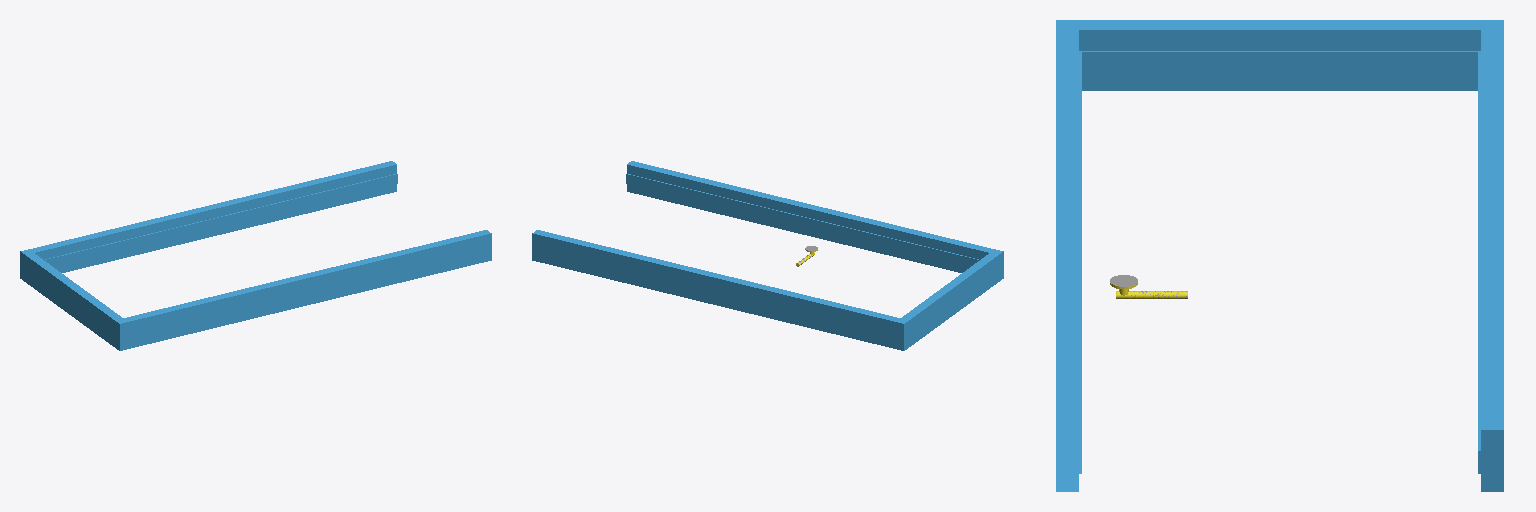
robot.urdf — right-pull-door:
<?xml version="1.0" ?>
<robot name="right-pull-door">
	<link name="base"/>
	<link name="link_0">
		<visual name="out-frame">
			<origin xyz="0 0 0"/>
			<geometry>
				<mesh filename="texture_dae/frame.dae" scale="1.0598661171004193 1.0598661171004193 1.0598661171004193"/>
			</geometry>
		</visual>
		<collision>
			<origin xyz="0 0 0"/>
			<geometry>
				<mesh filename="texture_dae/frame.dae" scale="1.0598661171004193 1.0598661171004193 1.0598661171004193"/>
			</geometry>
		</collision>
	</link>
	<joint name="joint_0" type="fixed">
		<origin rpy="1.570796326794897 0 -1.570796326794897" xyz="0 0 0"/>
		<child link="link_0"/>
		<parent link="base"/>
	</joint>
	<link name="link_1">
		<visual name="surf-board">
			<origin xyz="0.3602486203654256 -0.828960883888819 0"/>
			<geometry>
				<mesh filename="texture_dae/board.dae" scale="1.0598661171004193 1.0598661171004193 1.0598661171004193"/>
			</geometry>
		</visual>
		<collision>
			<origin xyz="0.3602486203654256 -0.828960883888819 0"/>
			<geometry>
				<mesh filename="texture_dae/board.dae" scale="1.0598661171004193 1.0598661171004193 1.0598661171004193"/>
			</geometry>
		</collision>
	</link>
	<joint name="joint_1" type="revolute">
		<origin xyz="-0.3602486203654256 0.828960883888819 0"/>
		<axis xyz="0 -1 0"/>
		<child link="link_1"/>
		<parent link="link_0"/>
		<limit lower="0" upper="1.5079644737231006"/>
	</joint>
	<link name="link_2">
		<visual name="handle">
			<origin xyz="0 0 0"/>
			<geometry>
				<mesh filename="texture_dae/9960036.dae" scale="0.6809731574572221 0.6809731574572221 0.6809731574572221"/>
			</geometry>
		</visual>
		<collision>
			<origin xyz="0 0 0"/>
			<geometry>
				<mesh filename="texture_dae/9960036.dae" scale="0.6809731574572221 0.6809731574572221 0.6809731574572221"/>
			</geometry>
		</collision>
	</link>
	<joint name="joint_2" type="revolute">
		<origin xyz="0.6410614907450497 -0.8979405695106533 0.035737196567831333"/>
		<child link="link_2"/>
		<parent link="link_1"/>
		<axis xyz="0 0 1"/>
		<limit lower="0" upper="1.5079644737231006"/>
	</joint>
</robot>

--- Facts derived from the render (not from the file) ---
The picture shows the robot from 3 angles, left to right: view 1: azimuth 30°, elevation 25°; view 2: azimuth 150°, elevation 25°; view 3: azimuth 270°, elevation 25°; orthographic projection.
Robot: right-pull-door — 4 links, 3 joints (2 revolute, 1 fixed); root link base; default pose: all joints at 0.
Links seen in each view (by area): view 1: link_0; view 2: link_0; view 3: link_0, link_2.
Boxes of the visible links, <box> form: link_0: <box>20,161,491,350</box>; link_0: <box>532,161,1003,350</box>; link_0: <box>1056,20,1503,491</box>; link_2: <box>1110,275,1187,298</box>.
Bounding box of the posed robot: 1.74 × 0.8034 × 0.1652 m (x, y, z).
2 mesh visuals loaded from 3 distinct referenced files (2 Collada DAE); not drawn: 1 (reference not matched to a file when rendering).
